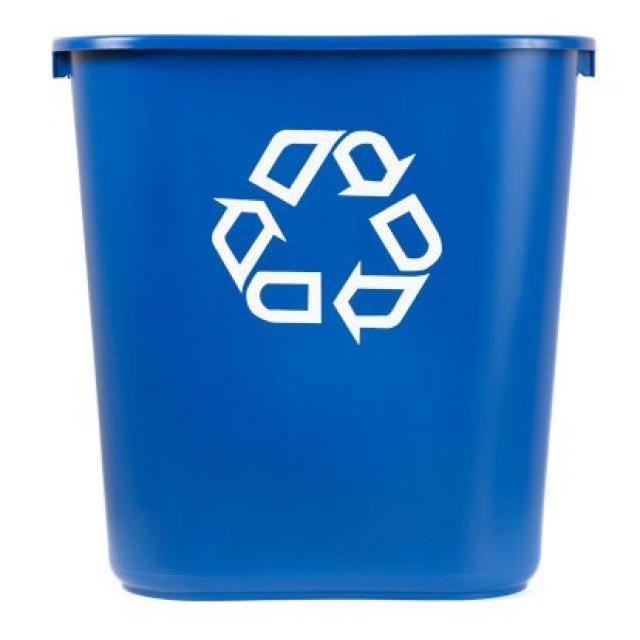Dumpster: (49, 31, 598, 603)
